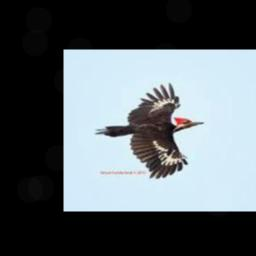Woodpecker: (93, 82, 202, 177)
